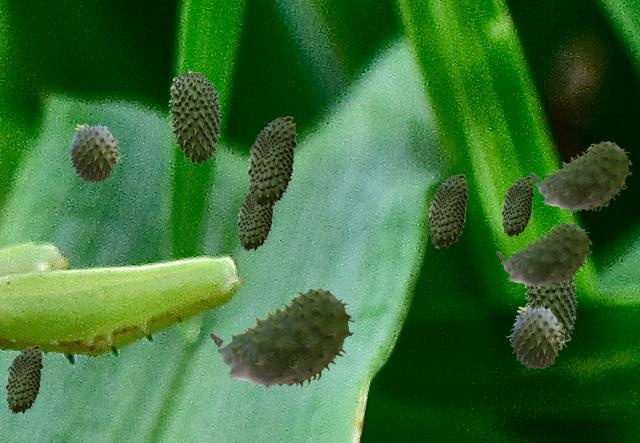guyabano: (209, 288, 353, 392), (530, 141, 631, 214), (496, 222, 591, 290), (168, 69, 221, 164), (247, 116, 296, 207), (506, 304, 569, 368), (65, 122, 124, 182), (524, 276, 577, 341), (428, 174, 467, 247), (5, 345, 42, 413), (237, 192, 274, 250), (501, 176, 533, 236)
